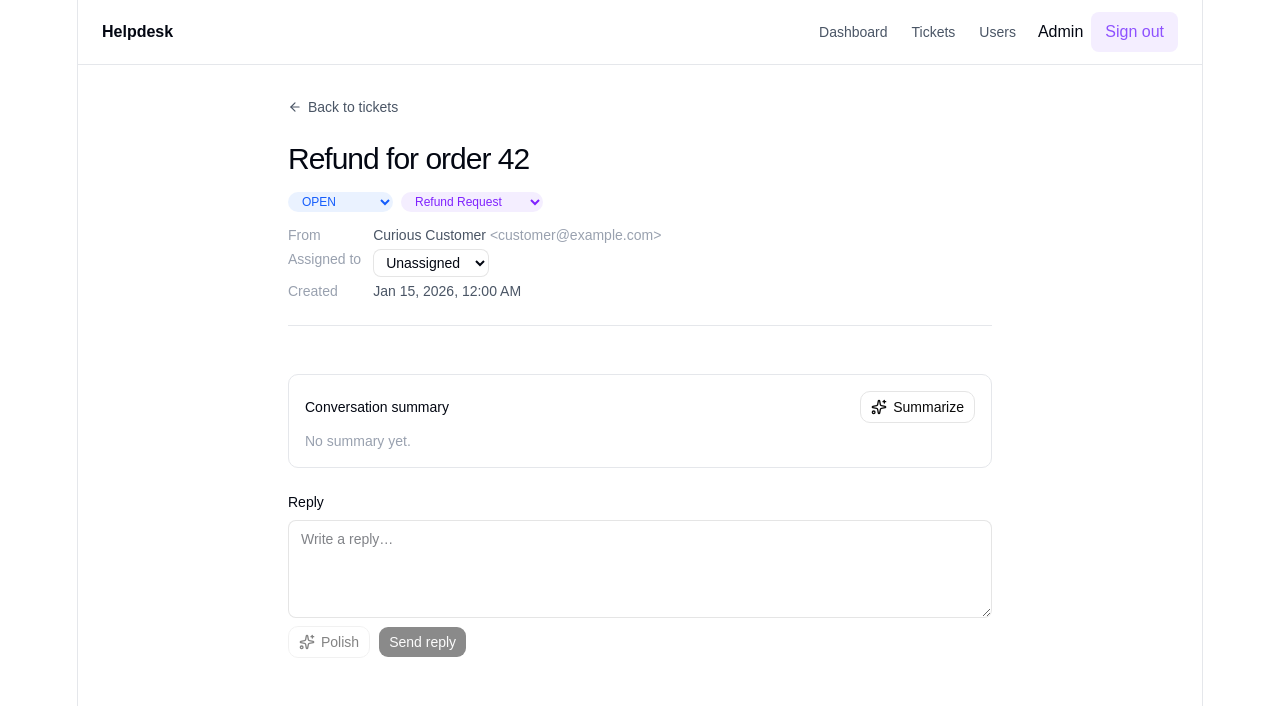
it: TicketDetailPage › submits a reply and clears the textarea on success
This screenshot has width=1280, height=706.
Expected: the heading "Refund for order 42" is shown, [288,142,529,175]
Type "Thanks for reaching out, looking into it now." into the text box labelled "Reply" at (640, 569), box [288,520,992,618]
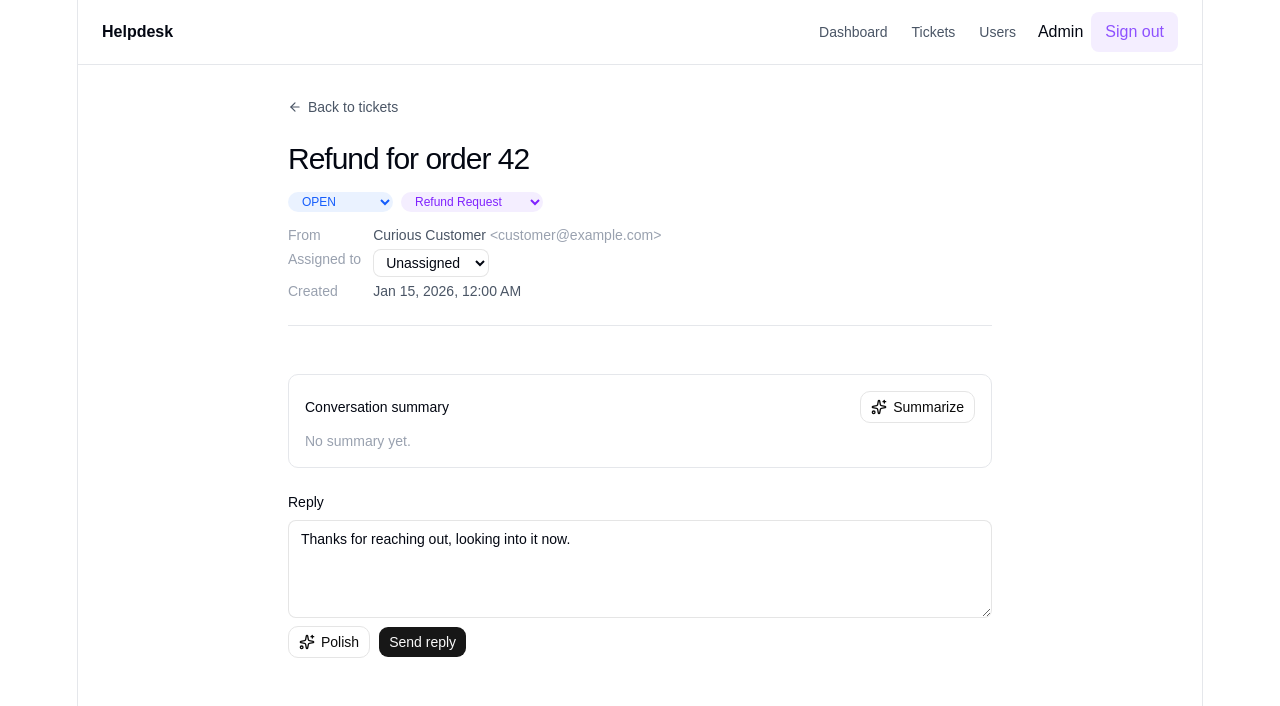
Click the button "Send reply" at (423, 642), box [378,626,467,658]
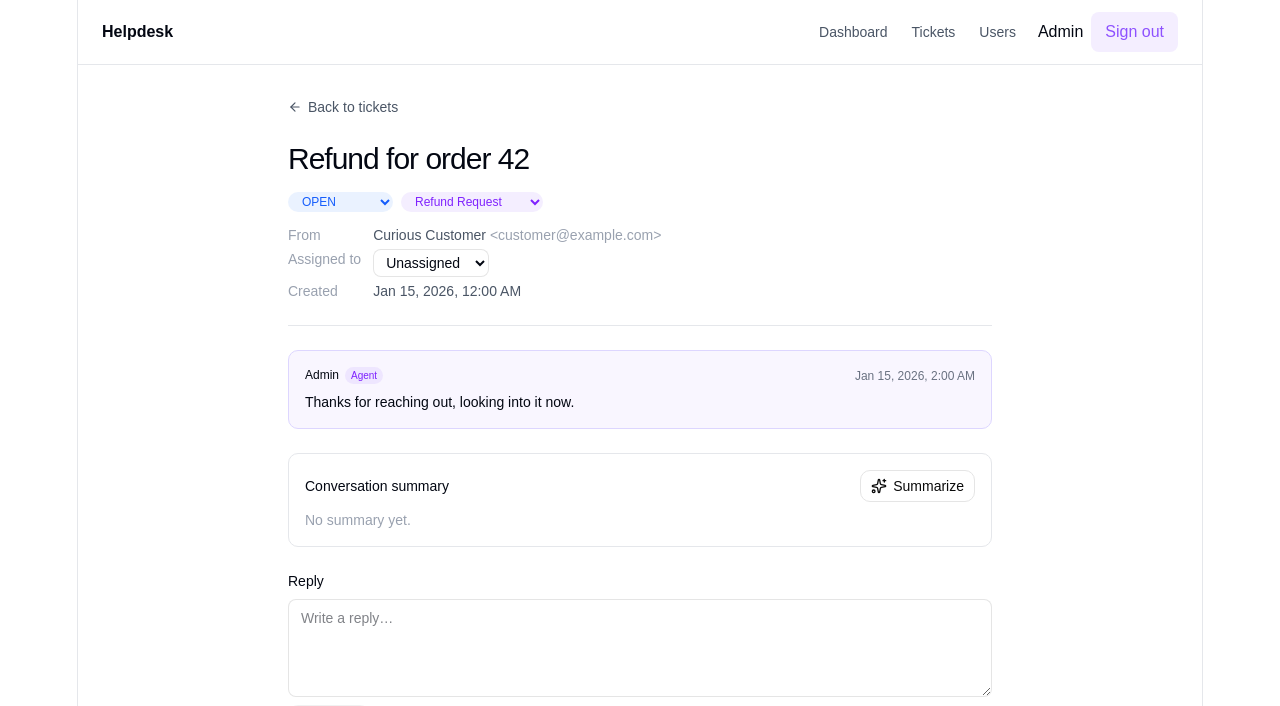
Expected: the text "Thanks for reaching out, looking into it now." is shown, [305,394,574,410]
Expected: the text box labelled "Reply" is empty, [288,599,992,697]
